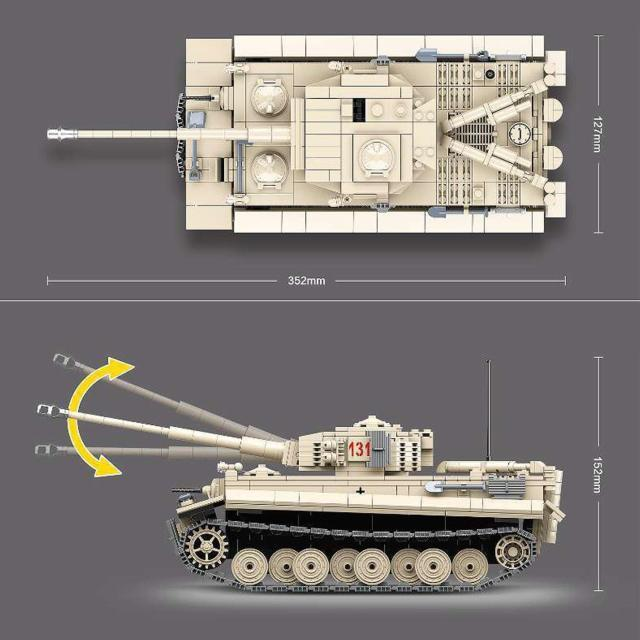MIL_MBT: (128, 378, 578, 613), (174, 35, 567, 249)
